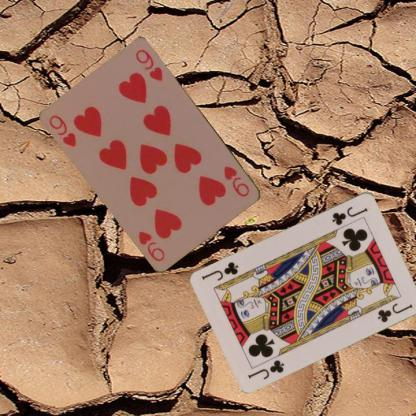9h: (46, 112, 78, 149), (222, 163, 252, 198)
Jc: (245, 356, 286, 381), (329, 204, 370, 226)
